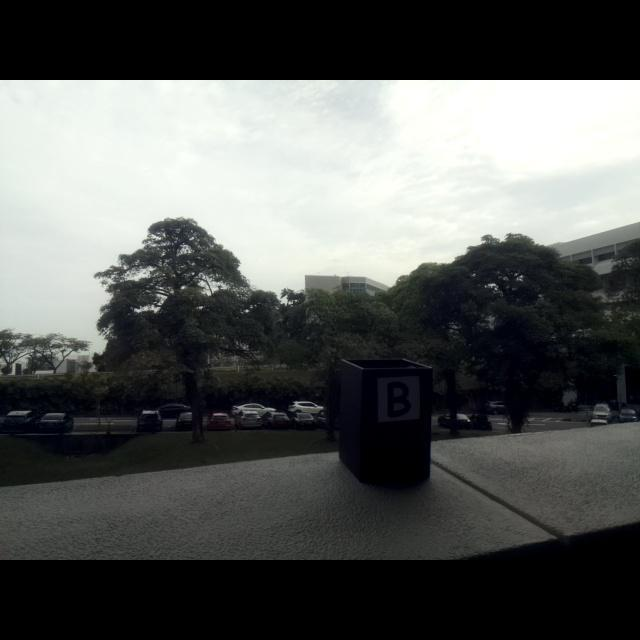B: (387, 381, 412, 418)
